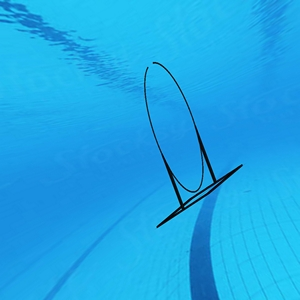circle: (138, 58, 246, 229)
